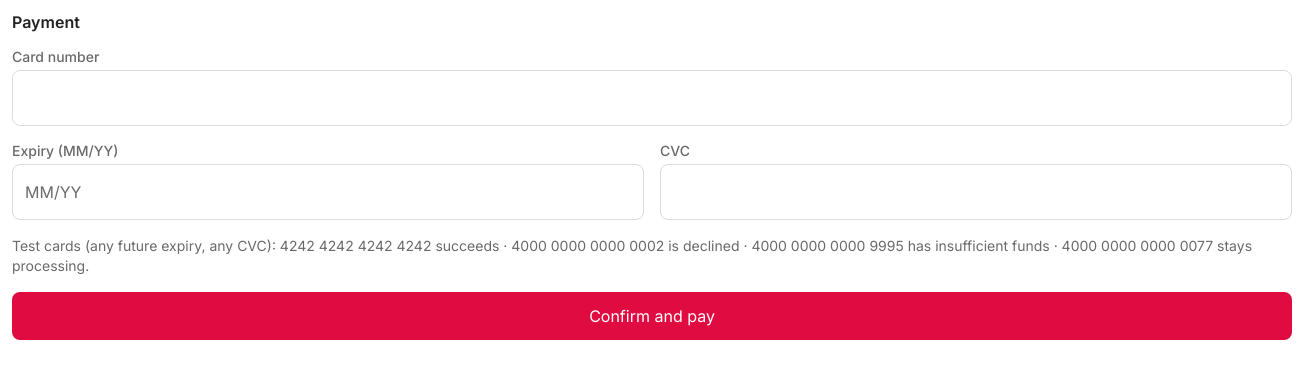
Test case: ConfirmBookingButton › a malformed expiry is caught before booking
Type "4242 4242 4242 4242" into the field labelled "Card number" at (652, 98), box [12,70,1292,126]
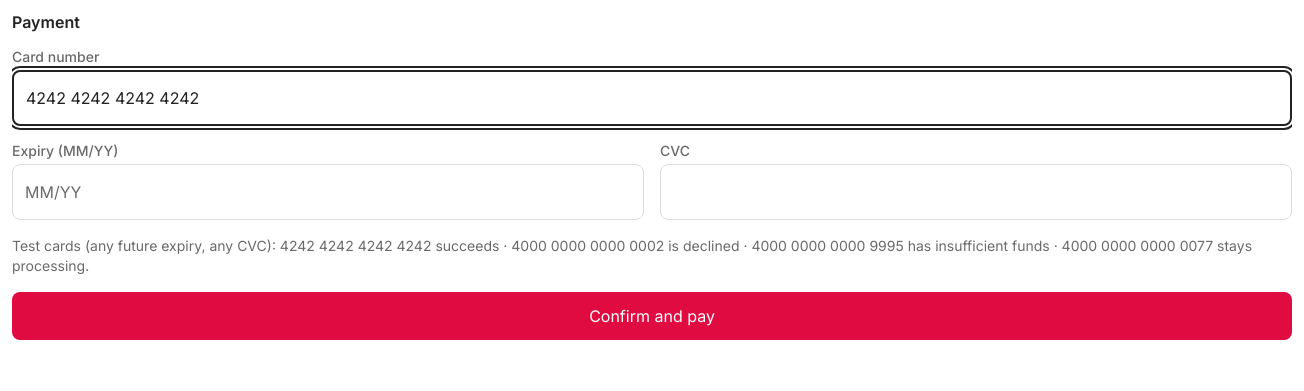
Type "1230" into the field labelled "Expiry (MM/YY)" at (328, 192), box [12,164,644,220]
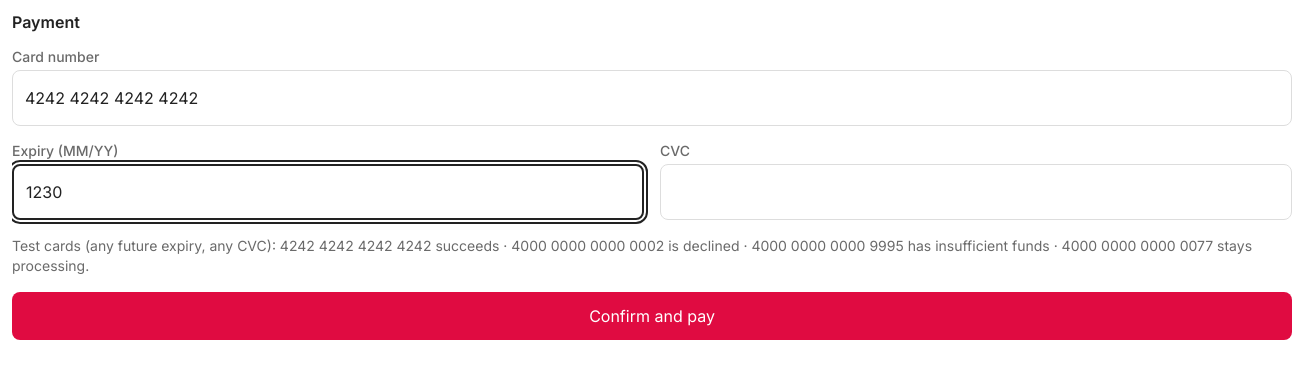
Type "123" into the field labelled "CVC" at (976, 192), box [660,164,1292,220]
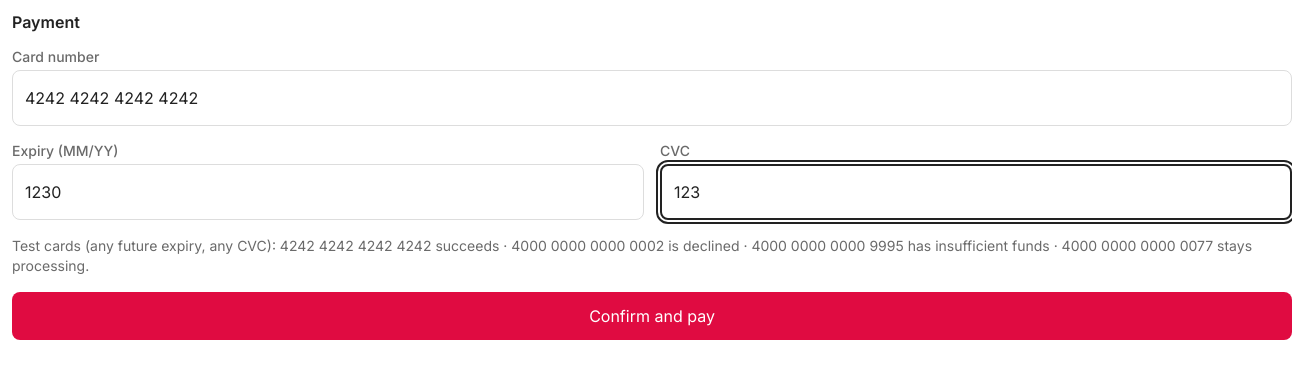
Click the button "Confirm and pay" at (652, 316), box [12,292,1292,340]
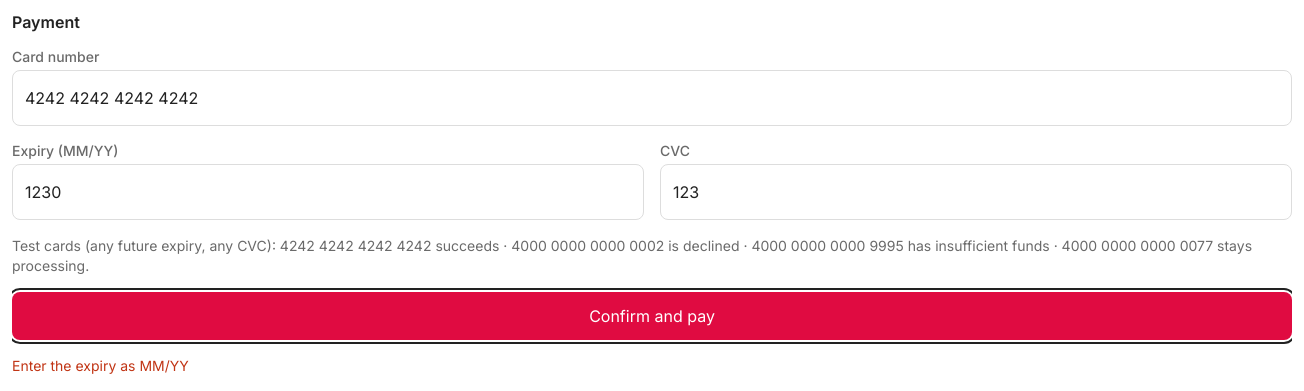
Result: the message reads "Enter the expiry as MM/YY" at [12,357,189,374]
